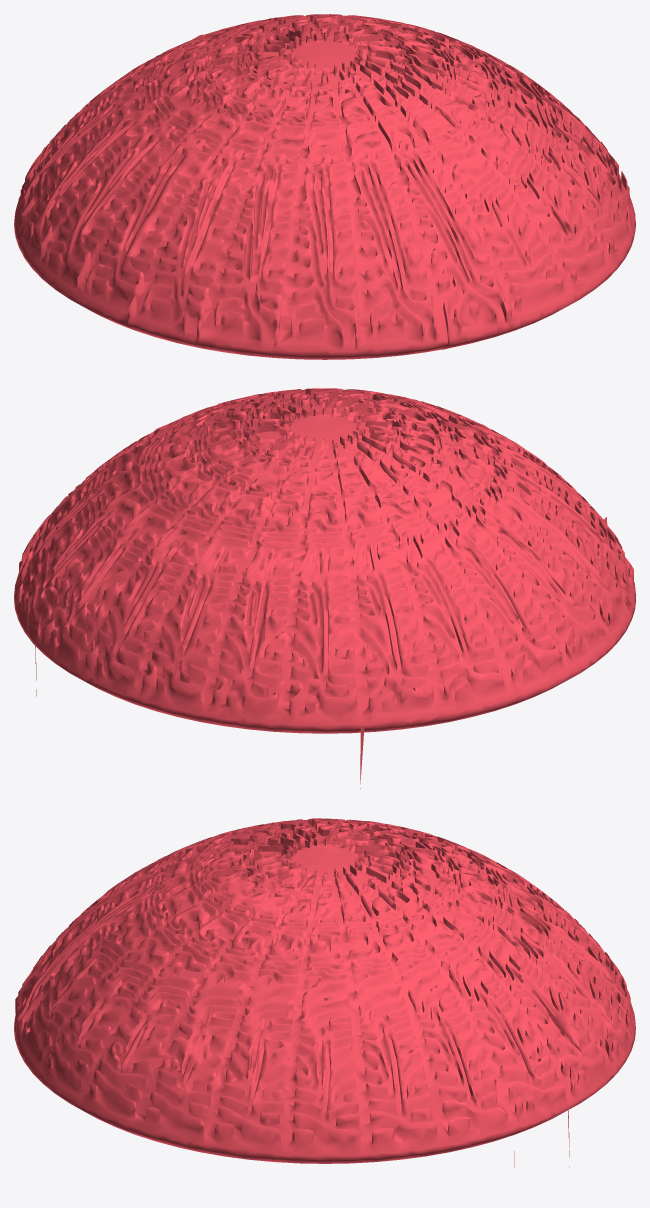
Rendered from phena3.glb.
The picture shows the model from 3 angles, top to bottom: view 1: azimuth 30°, elevation 25°; view 2: azimuth 150°, elevation 25°; view 3: azimuth 270°, elevation 25°; orthographic projection.
Parts seen in each view (by area): view 1: phena3; view 2: phena3; view 3: phena3.
Part boxes in pixels (bbox=[...]): phena3: bbox=[14, 14, 635, 359]; phena3: bbox=[14, 388, 635, 788]; phena3: bbox=[14, 818, 635, 1167].
Size of the model in its own units: 243 by 102 by 243.
